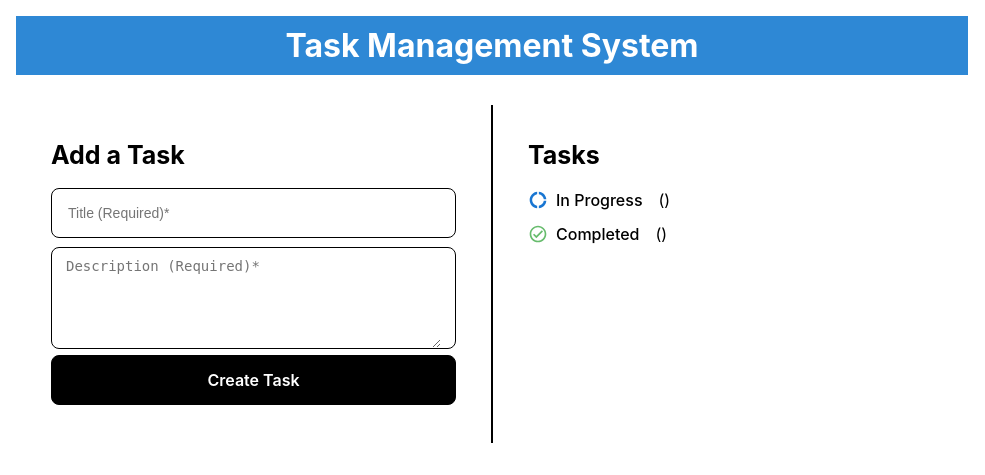
Scenario: Home Component › should add a new task
Step 1. Type "Test Task" into the field with placeholder "Title (Required)*" → (254, 213), box [66,204,441,222]
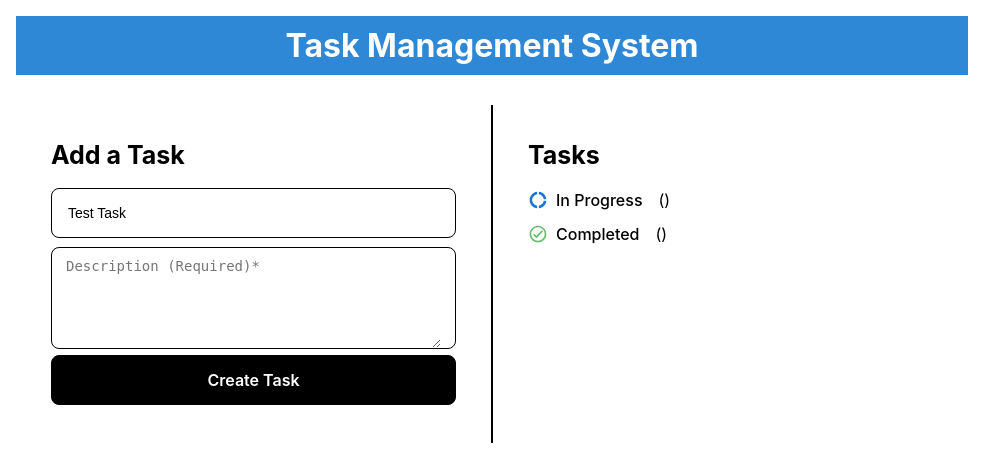
Step 2. Type "Test Description" into the text box with placeholder "Description (Required)*" → (254, 298), box [66,248,441,348]
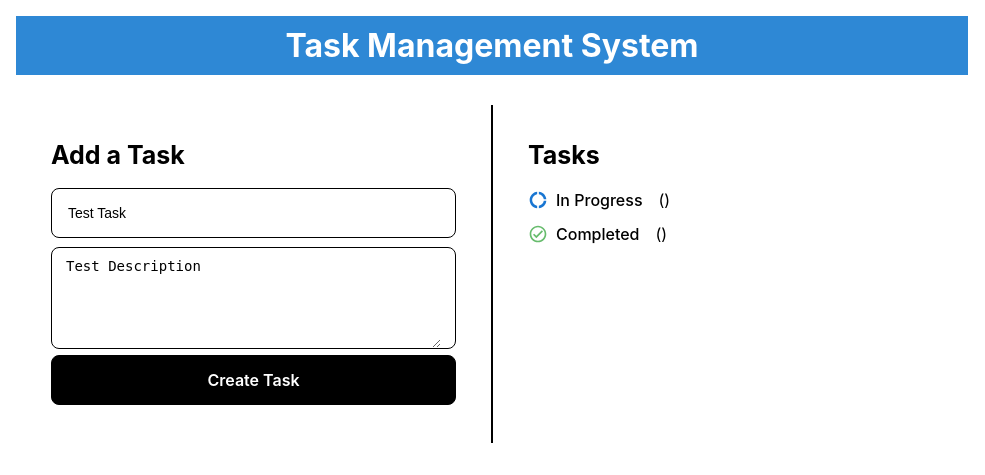
Step 3. Click the text "Create Task" → (254, 380), box [51,355,456,405]
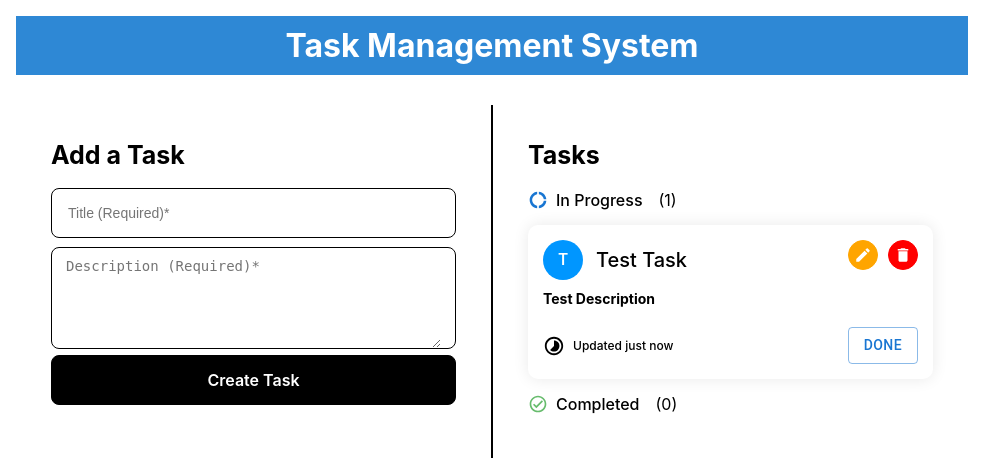
Now the text "Test Task" is shown, box [596,245,687,275]
